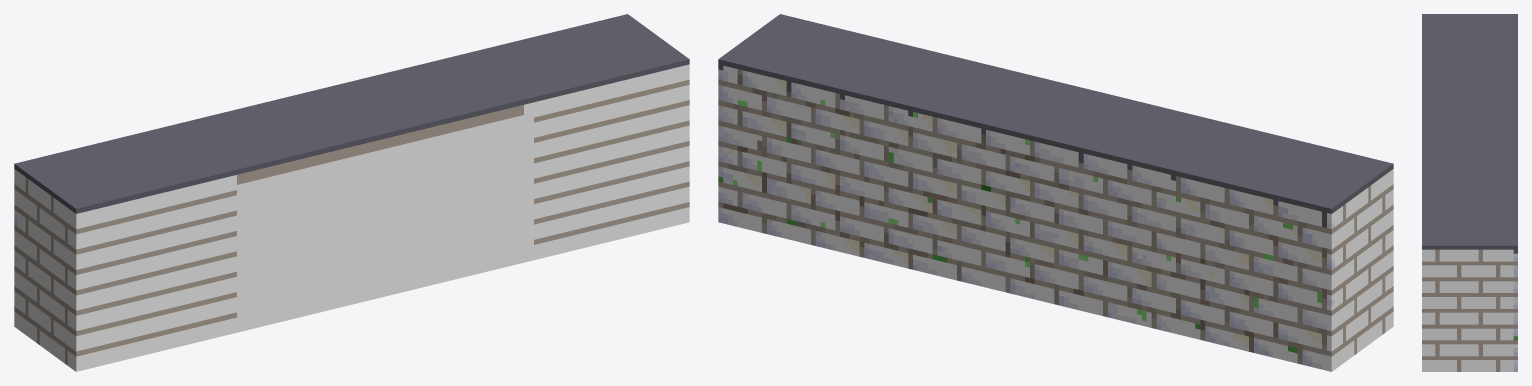
The model's file is basic2.FBX.
3 views of the same model, side by side, from view 1: azimuth 30°, elevation 25°; view 2: azimuth 150°, elevation 25°; view 3: azimuth 270°, elevation 25° (orthographic). The views are drawn at different scales.
Visible parts, largest first — view 1: default001; view 2: default001; view 3: default001.
Boxes of the visible parts, x1,y1,x2,y2 form: default001: (14,14,689,371); default001: (718,14,1393,371); default001: (1422,14,1517,371).
Bounding box in the file's own units: 3780 × 960 × 660.
